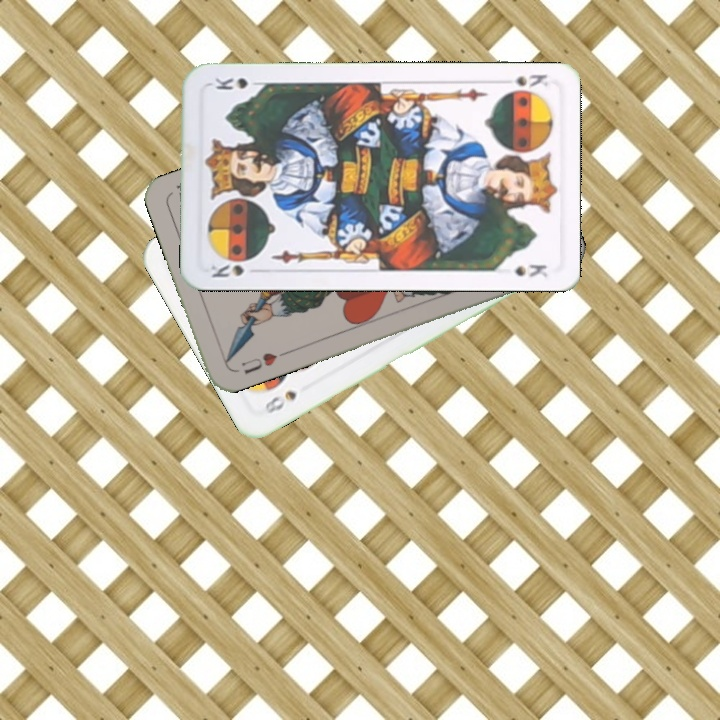HU: (237, 348, 280, 377)
S8: (261, 386, 299, 417)
SK: (495, 71, 550, 97), (207, 260, 264, 280)
